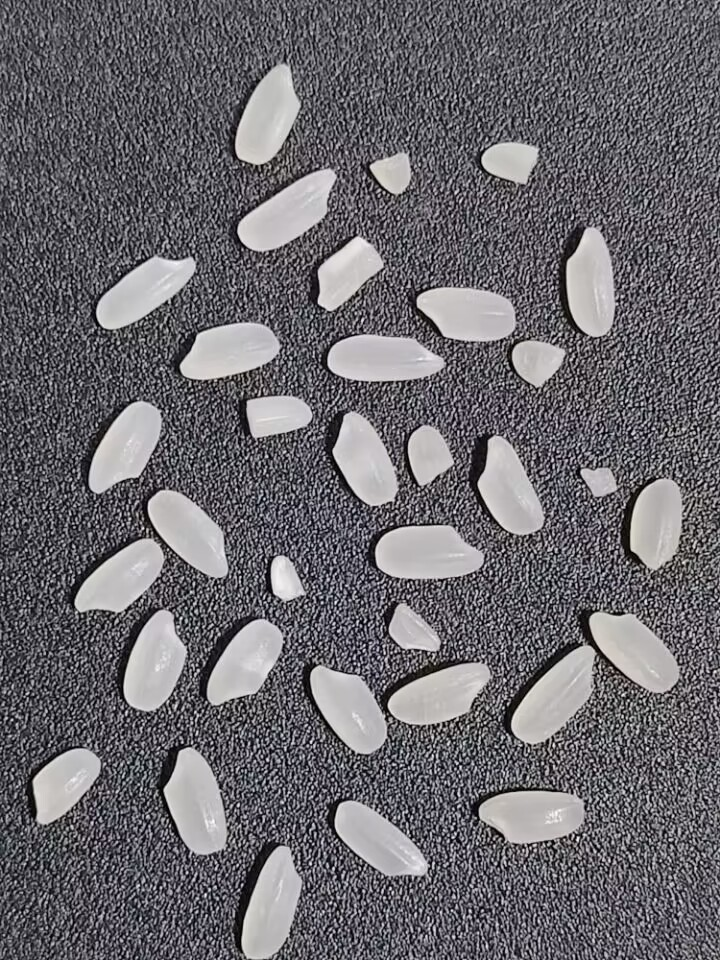broken: (300, 234, 389, 315), (236, 386, 316, 444), (401, 423, 462, 490), (504, 337, 571, 392), (379, 601, 444, 654), (363, 148, 418, 198), (480, 141, 539, 185), (267, 547, 307, 605), (576, 460, 623, 498)
rice: (584, 600, 692, 703), (229, 161, 342, 259), (302, 662, 395, 768), (508, 644, 600, 747), (89, 249, 198, 335), (469, 434, 552, 543), (196, 616, 287, 711), (226, 56, 305, 165), (62, 535, 168, 616), (81, 397, 164, 500), (112, 604, 187, 714), (326, 407, 403, 514), (146, 489, 234, 581), (382, 656, 496, 727), (410, 280, 528, 344), (370, 519, 490, 581), (334, 800, 428, 878), (240, 844, 303, 959), (163, 746, 228, 855), (176, 320, 284, 384), (322, 334, 450, 388), (628, 474, 692, 575), (563, 226, 617, 338), (477, 790, 586, 844), (33, 748, 101, 825)
